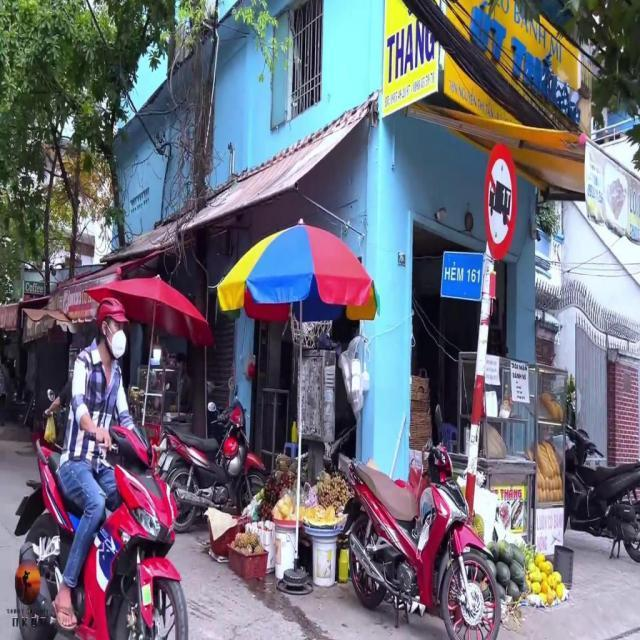106-cam-oto-tai: (484, 143, 516, 260)
